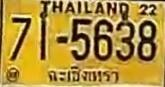1: (39, 15, 46, 59)
3: (115, 20, 134, 60)
5: (70, 18, 90, 60)
6: (93, 18, 112, 60)
7: (10, 16, 30, 60)
8: (137, 19, 155, 60)
CCO: (46, 65, 122, 85)
